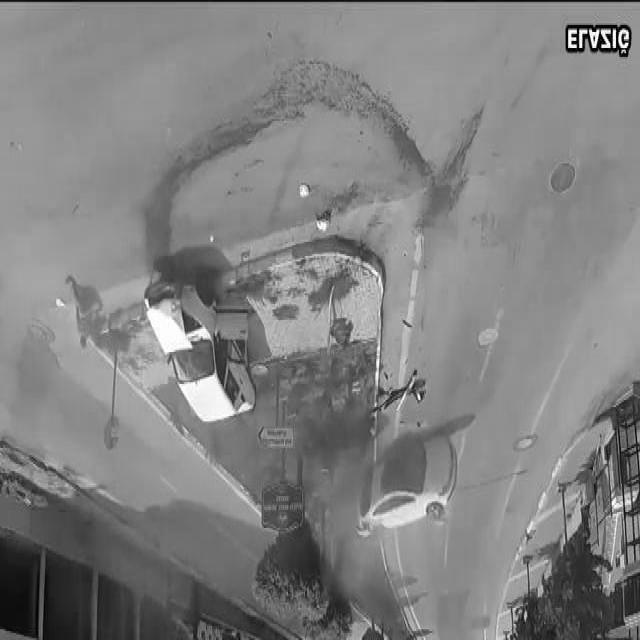person: (359, 462, 454, 570)
vehicle: (125, 266, 270, 439)
